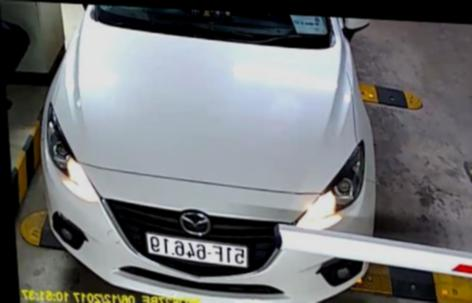License_Plate: (143, 232, 251, 266)
